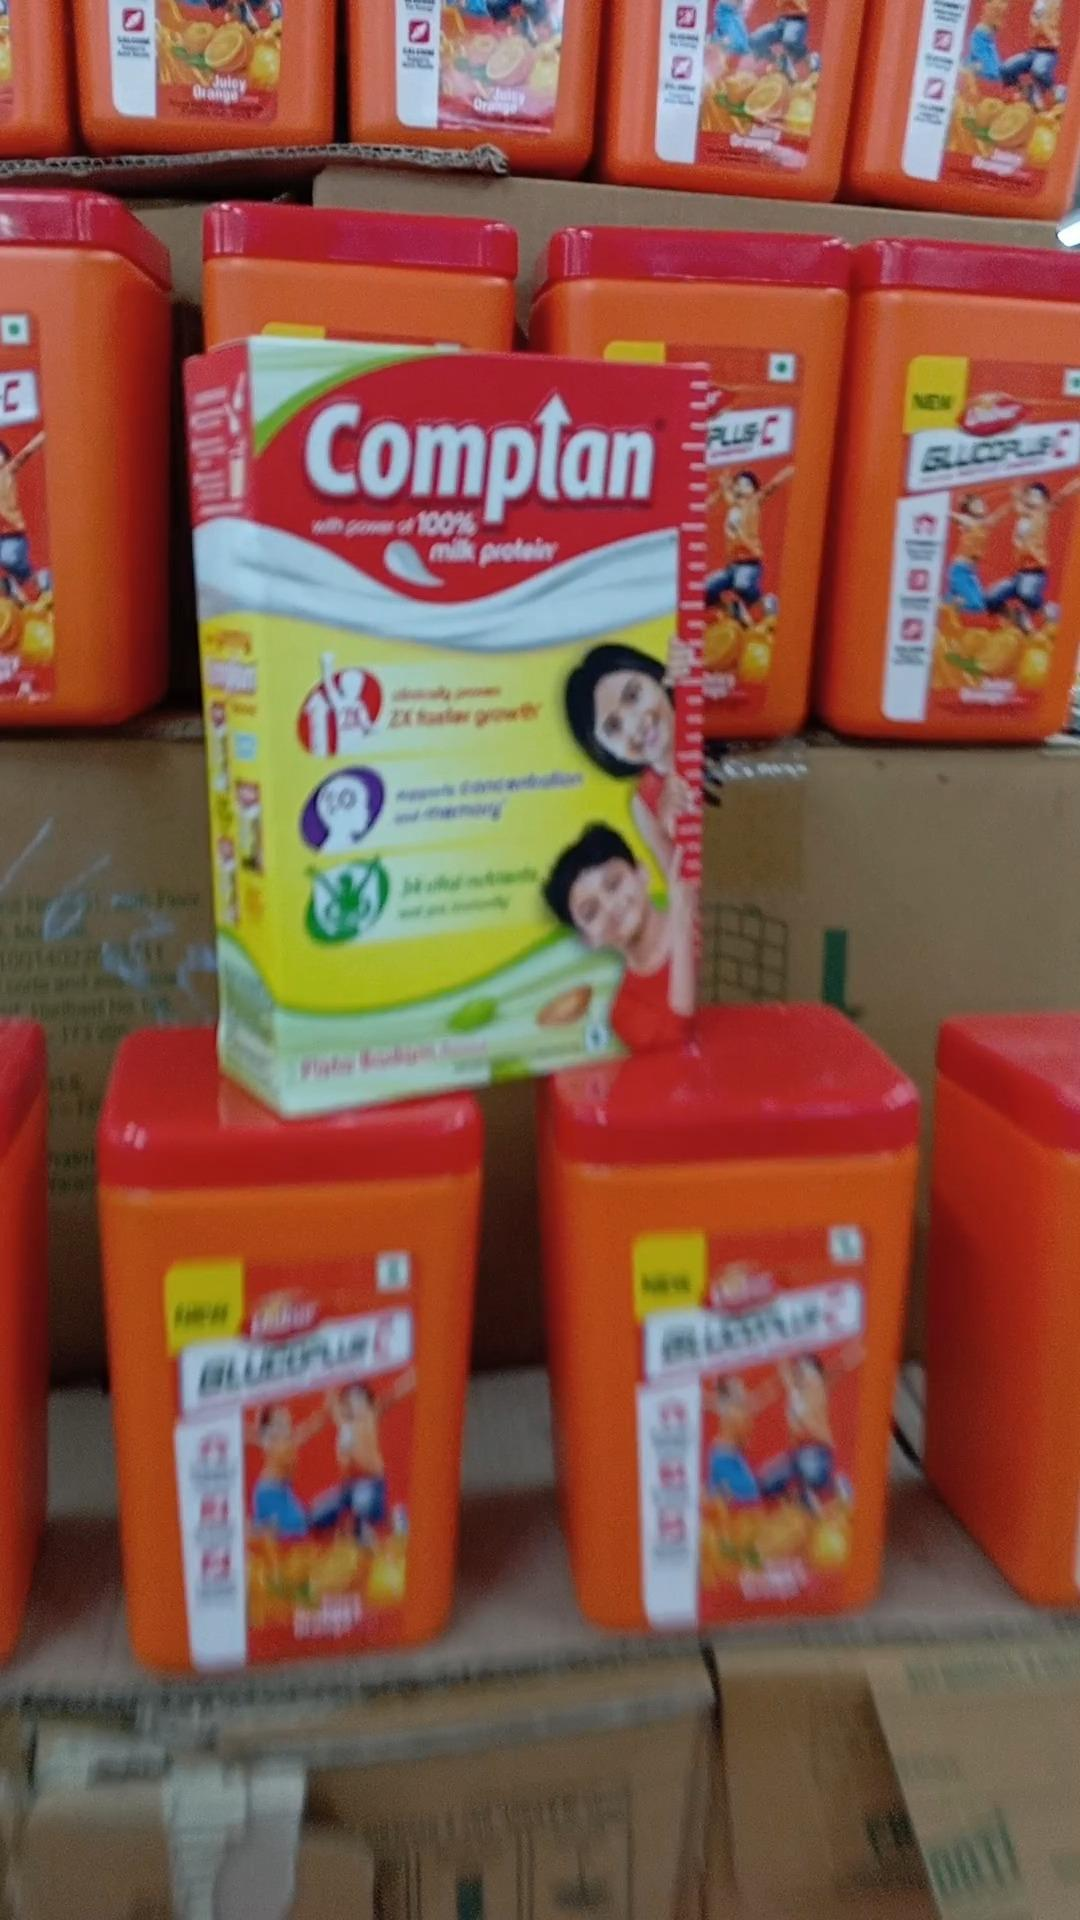COMPLAN_PISTA_BADAM_500_GMS_PACK: (260, 335, 705, 1064)
